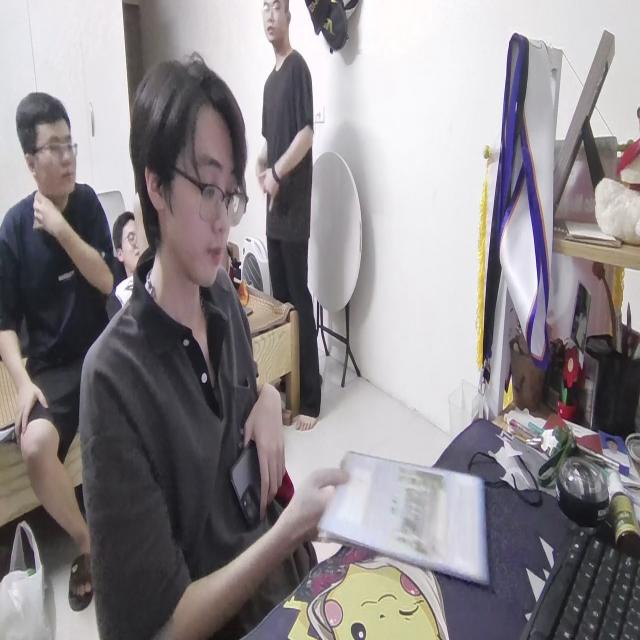book: (316, 446, 495, 596)
extra_person: (1, 92, 122, 612), (248, 0, 318, 422), (113, 206, 144, 301)
phone: (231, 439, 271, 518)
student: (82, 57, 336, 640)
